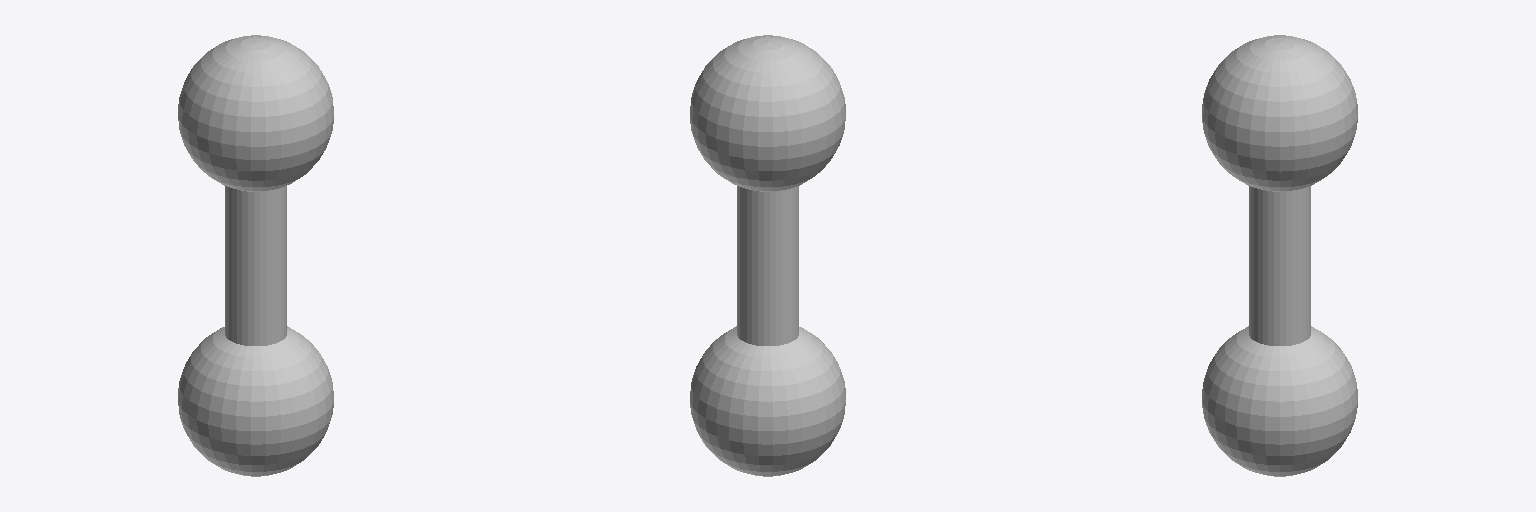
3 renders of one model, left to right at view 1: azimuth 30°, elevation 25°; view 2: azimuth 150°, elevation 25°; view 3: azimuth 270°, elevation 25°, orthographic.
Parts seen in each view (by area): view 1: Dumbbell_Shaft; view 2: Dumbbell_Shaft; view 3: Dumbbell_Shaft.
Part boxes in pixels (x1,y1,x2,y2): Dumbbell_Shaft: (178,35,333,476); Dumbbell_Shaft: (690,35,845,476); Dumbbell_Shaft: (1202,35,1357,476).
Bounding box in the file's own units: 0.6667 × 2 × 0.6667.